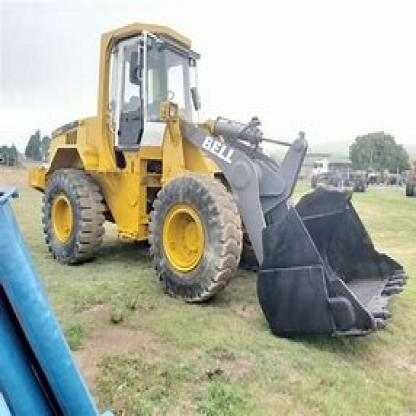bull_dozer/loader/grader: (28, 19, 410, 348)
